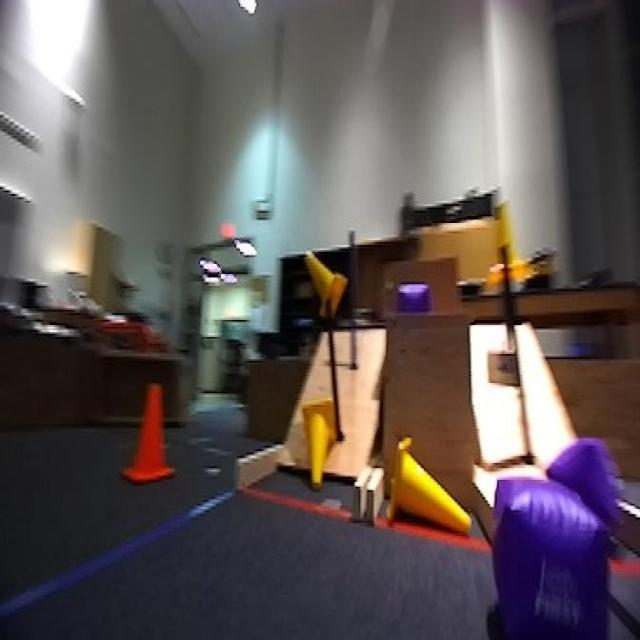frc_cone: (388, 443, 468, 536), (482, 196, 535, 294), (298, 244, 352, 330), (298, 397, 340, 497)
frc_cube: (508, 470, 606, 616), (549, 437, 621, 555), (396, 277, 434, 322)
